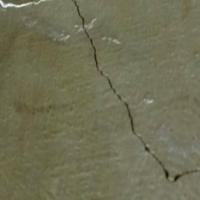crack: (0, 0, 199, 189)
